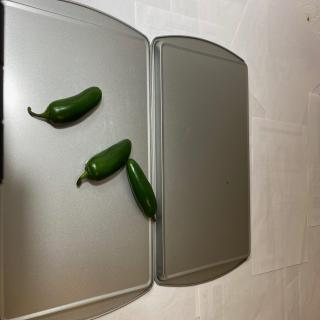Tomato: (27, 86, 102, 125), (76, 138, 132, 187), (126, 158, 157, 221)
